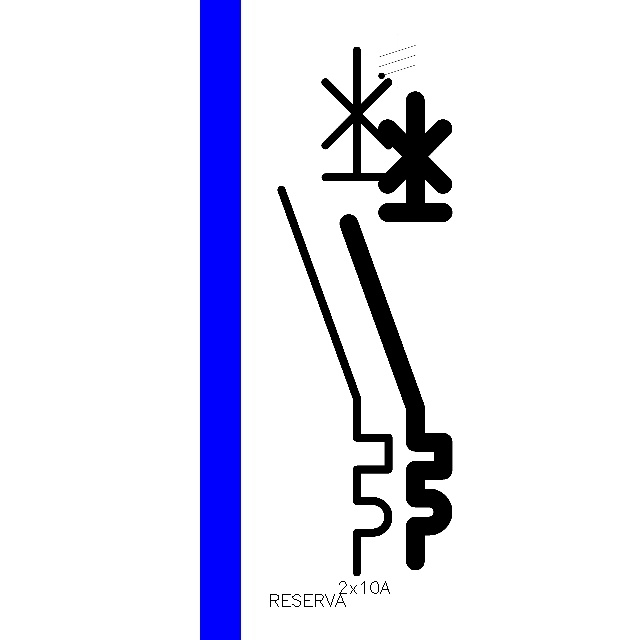interruptor_termomagnetico: (268, 37, 402, 586), (337, 88, 455, 572)
